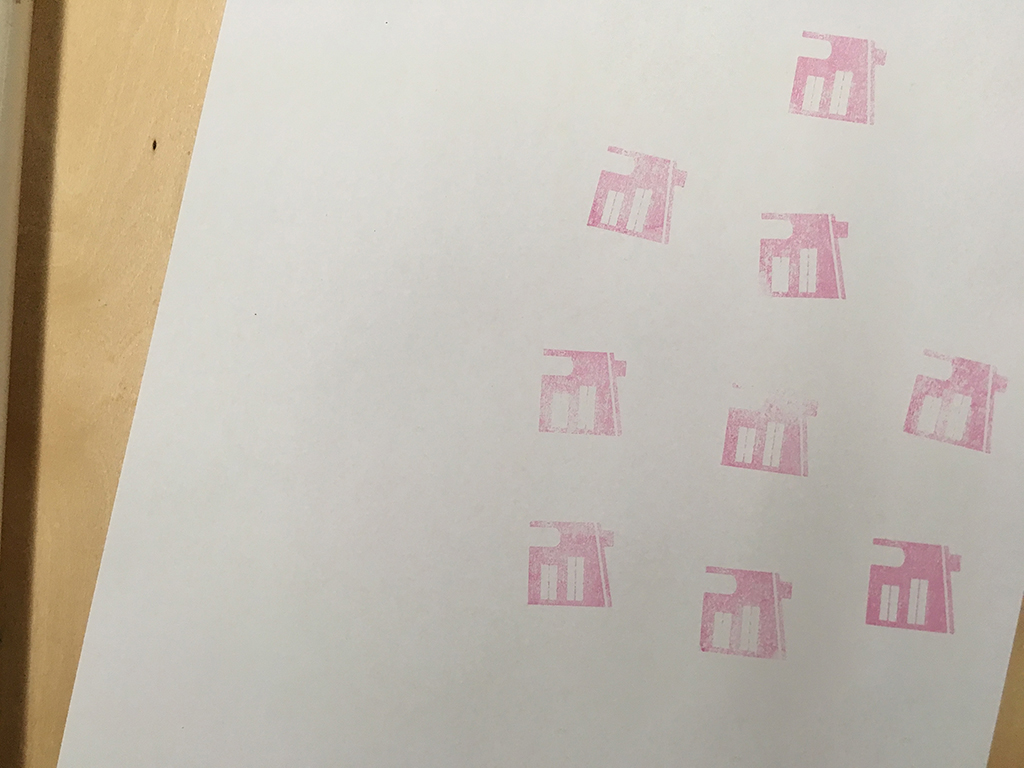house: (886, 338, 1020, 459), (739, 196, 866, 314), (684, 556, 804, 669), (856, 529, 970, 644), (708, 372, 823, 484), (527, 334, 640, 447), (780, 24, 894, 136), (583, 137, 692, 252), (519, 509, 629, 621)
